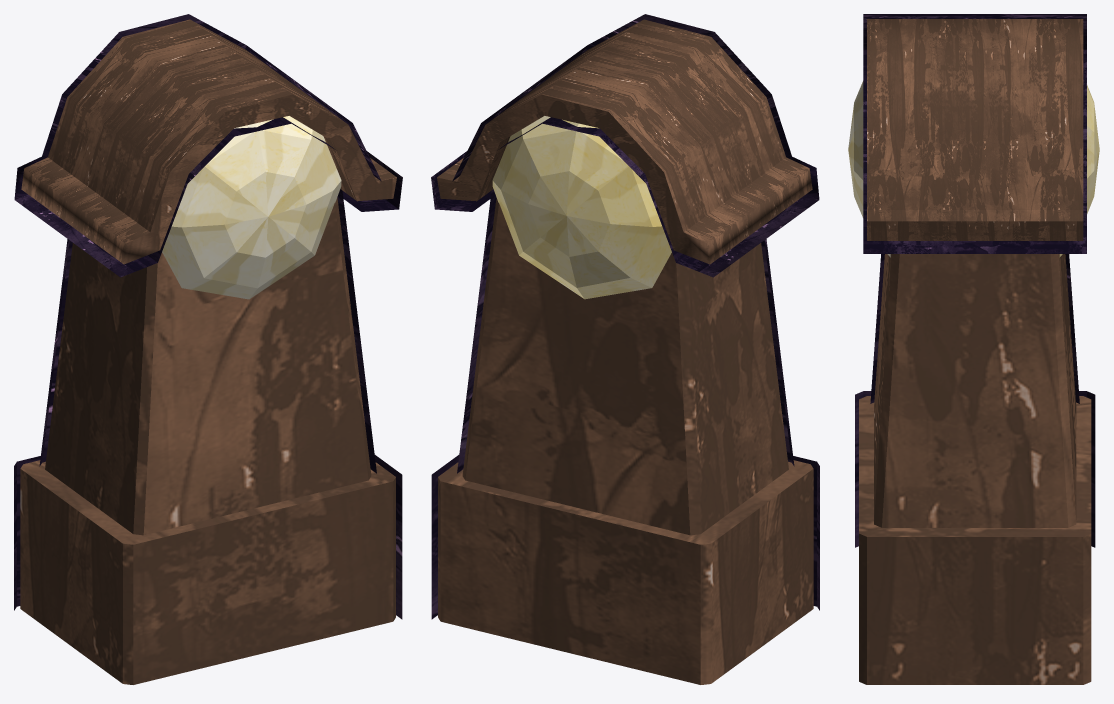
File: Fence_01_Post_Art.glb
The picture shows the model from 3 angles, left to right: view 1: azimuth 30°, elevation 25°; view 2: azimuth 150°, elevation 25°; view 3: azimuth 270°, elevation 25°; orthographic projection. The views are drawn at different scales.
Parts seen in each view (by area): view 1: Fence_01_Post_Art; view 2: Fence_01_Post_Art; view 3: Fence_01_Post_Art.
Boxes of the visible parts, <box> form: Fence_01_Post_Art: <box>14,14,402,684</box>; Fence_01_Post_Art: <box>431,14,819,684</box>; Fence_01_Post_Art: <box>848,14,1099,684</box>.
Size of what is drawn, in the model's own units: 0.7262 by 1.36 by 0.5293.
Materials: 3 (3 with a texture image).
